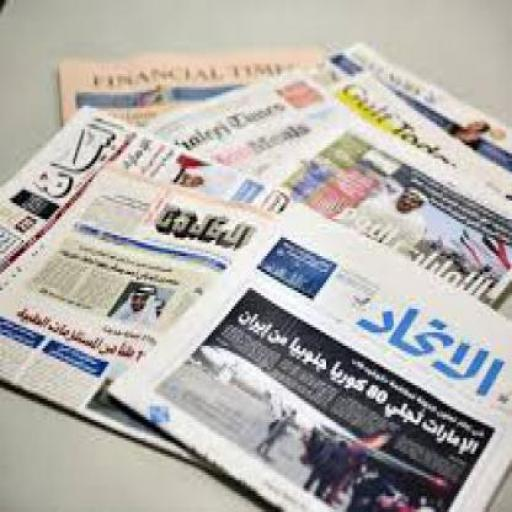paper: (104, 198, 510, 510), (0, 169, 267, 481), (142, 66, 510, 229), (2, 100, 291, 298), (257, 108, 510, 304), (54, 45, 320, 135), (322, 37, 510, 164), (336, 71, 510, 190)
